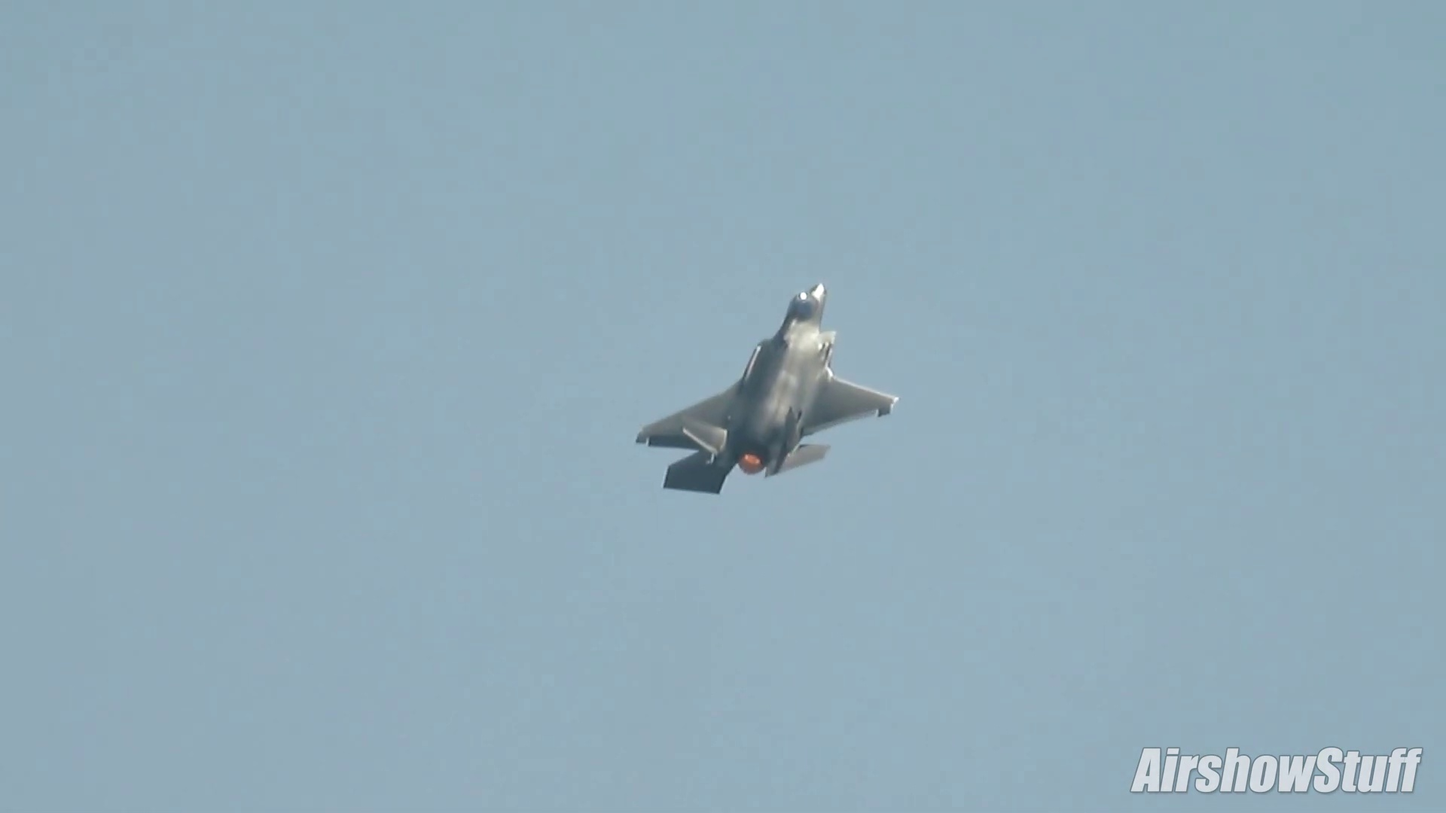F35: (631, 280, 902, 497)
